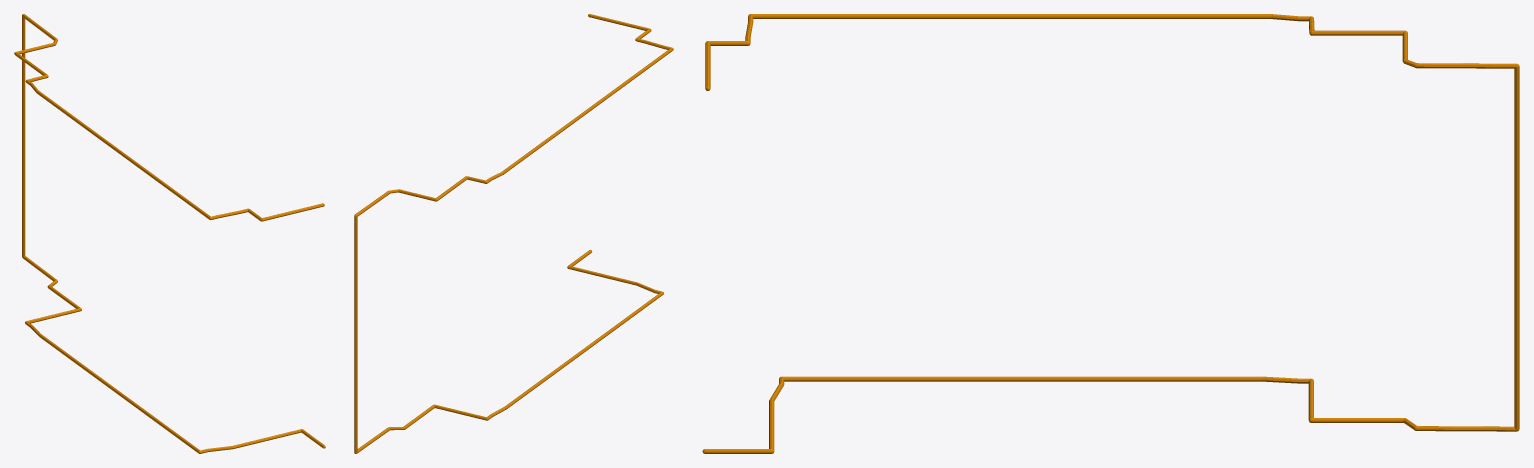
3 views of the same model, side by side, from view 1: azimuth 30°, elevation 25°; view 2: azimuth 150°, elevation 25°; view 3: azimuth 270°, elevation 25° (orthographic). The views are drawn at different scales.
Bounding box in the file's own units: 662 × 1520 × 3061.
